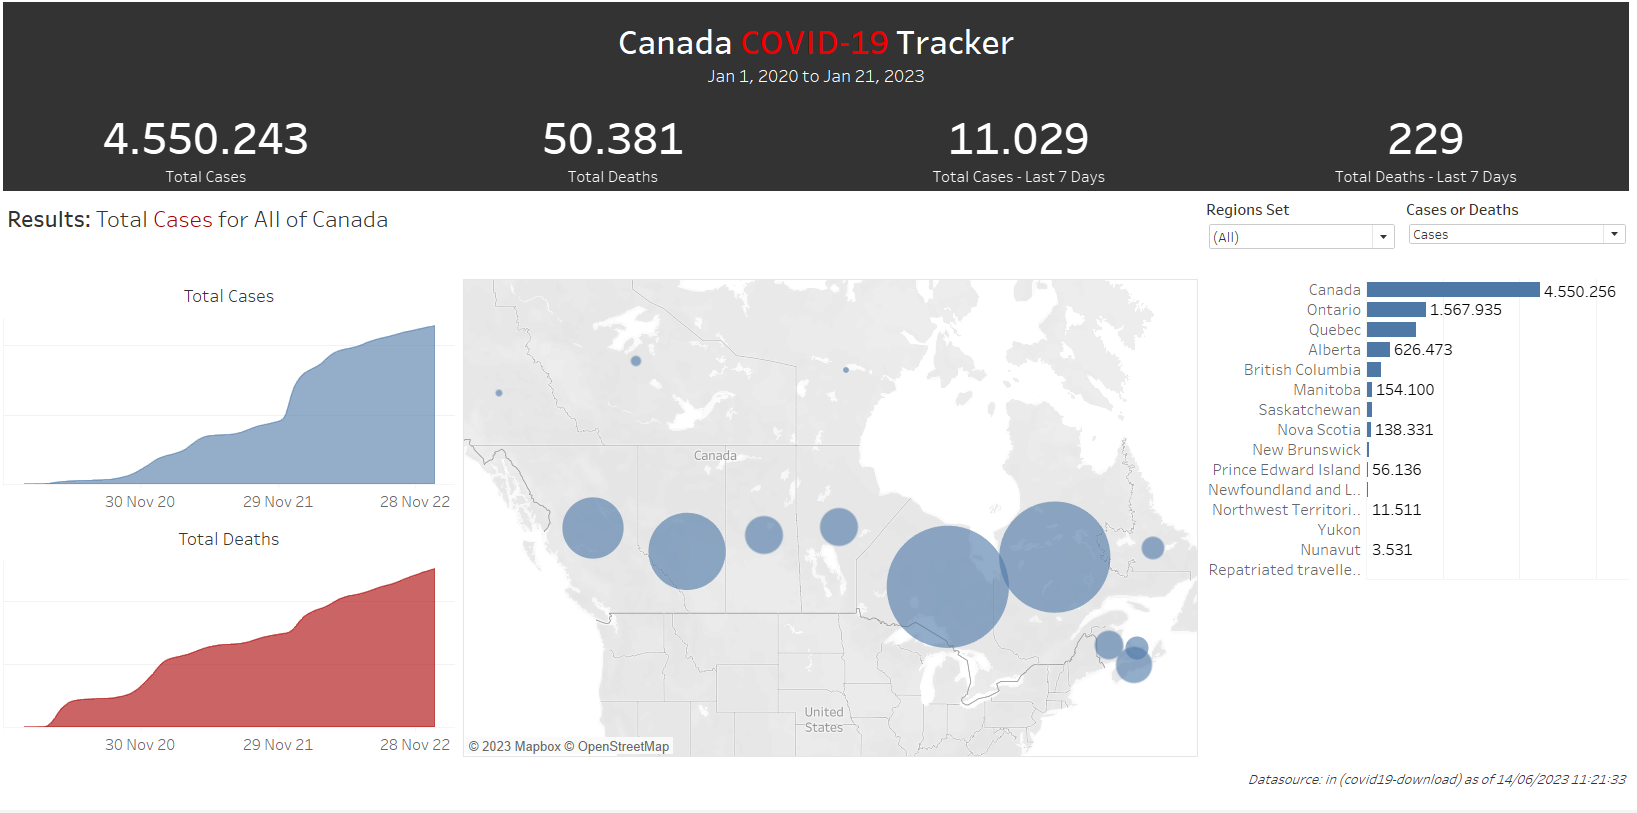

The dashboard page shown, as its layout file describes it:
{"tool":"tableau","page":{"name":"COVID Tracker","canvas":[1650,820],"ordinal":1},"visuals":[{"type":"text","box":[8,8,1634,105.1]},{"type":"worksheet","title":"Banner","mark":"Automatic","box":[8,113.1,1634,91.6]},{"type":"worksheet","title":"Results","mark":"Automatic","box":[8,204.7,1203,80.3]},{"type":"filter","title":"Line - Cases","param":"[federated.1vsewr90wiag8o1b0a0s1120frel].[Regions Set]","box":[1211,204.7,200,80.3]},{"type":"parameter","param":"[Parameters].[Parameter 1]","box":[1411,204.7,231,80.3]},{"type":"worksheet","title":"Line - Cases","mark":"Area","rows":["totalcases"],"cols":["date"],"box":[8,285,460,243.3]},{"type":"worksheet","title":"Map - Cases","mark":"Automatic","box":[468,285,743,485.5]},{"type":"worksheet","title":"Column - Cases","mark":"Automatic","rows":["prname"],"cols":["totalcases"],"box":[1211,285,431,454.5]},{"type":"worksheet","title":"Line - Deaths","mark":"Area","rows":["numdeaths"],"cols":["date"],"box":[8,528.3,460,243.3]},{"type":"worksheet","title":"Column - Deaths","mark":"Automatic","rows":["prname"],"cols":["numdeaths"],"box":[1211,739.5,431,32]},{"type":"worksheet","title":"Map - Deaths","mark":"Automatic","box":[468,770.5,743,1]},{"type":"worksheet","title":"Footer","mark":"Automatic","box":[8,771.5,1634,40.5]}]}

Visuals, with their boxes in screenshot pixels (x1, y1, x2, y2), scaled from the page's 1650x820 canvas onto the 1637x813 screenshot:
text: (8, 8, 1629, 112)
"Banner" worksheet: (8, 112, 1629, 203)
"Results" worksheet: (8, 203, 1201, 283)
"Line - Cases" filter: (1201, 203, 1400, 283)
parameter: (1400, 203, 1629, 283)
"Line - Cases" worksheet (Area marks): (8, 283, 464, 524)
"Map - Cases" worksheet: (464, 283, 1201, 764)
"Column - Cases" worksheet: (1201, 283, 1629, 733)
"Line - Deaths" worksheet (Area marks): (8, 524, 464, 765)
"Column - Deaths" worksheet: (1201, 733, 1629, 765)
"Map - Deaths" worksheet: (464, 764, 1201, 765)
"Footer" worksheet: (8, 765, 1629, 805)
